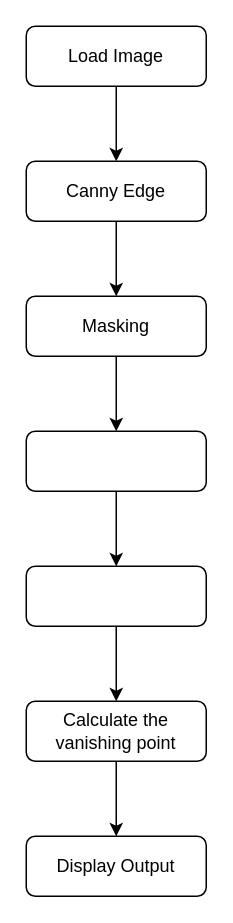
The diagram is 233 pixels wide and 923 high, and some of its shapes have lost their labels. Here are the shapes that lost their labels. From the top down, the centre of each, then its label:
At (x=115, y=460): "HoughLine Detection".
At (x=115, y=595): "Algorithm for selectiong one line per lane".
